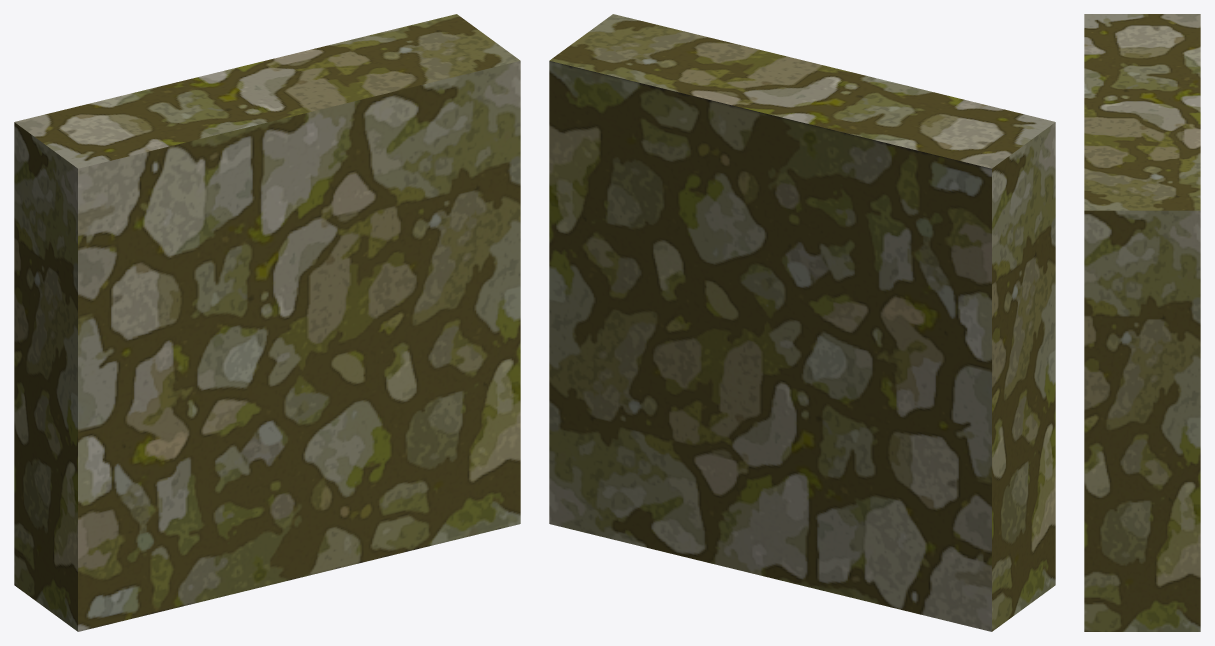
File: Full Wall.fbx
3 views of the same model, side by side, from view 1: azimuth 30°, elevation 25°; view 2: azimuth 150°, elevation 25°; view 3: azimuth 270°, elevation 25° (orthographic). The views are drawn at different scales.
Parts seen in each view (by area): view 1: Wall_Full; view 2: Wall_Full; view 3: Wall_Full.
Boxes of the visible parts, box(x1,y1,x2,y2) form: Wall_Full: box(14, 14, 520, 631); Wall_Full: box(549, 14, 1055, 631); Wall_Full: box(1084, 14, 1200, 631).
Size of the model in its own units: 2 by 2 by 0.5002.
